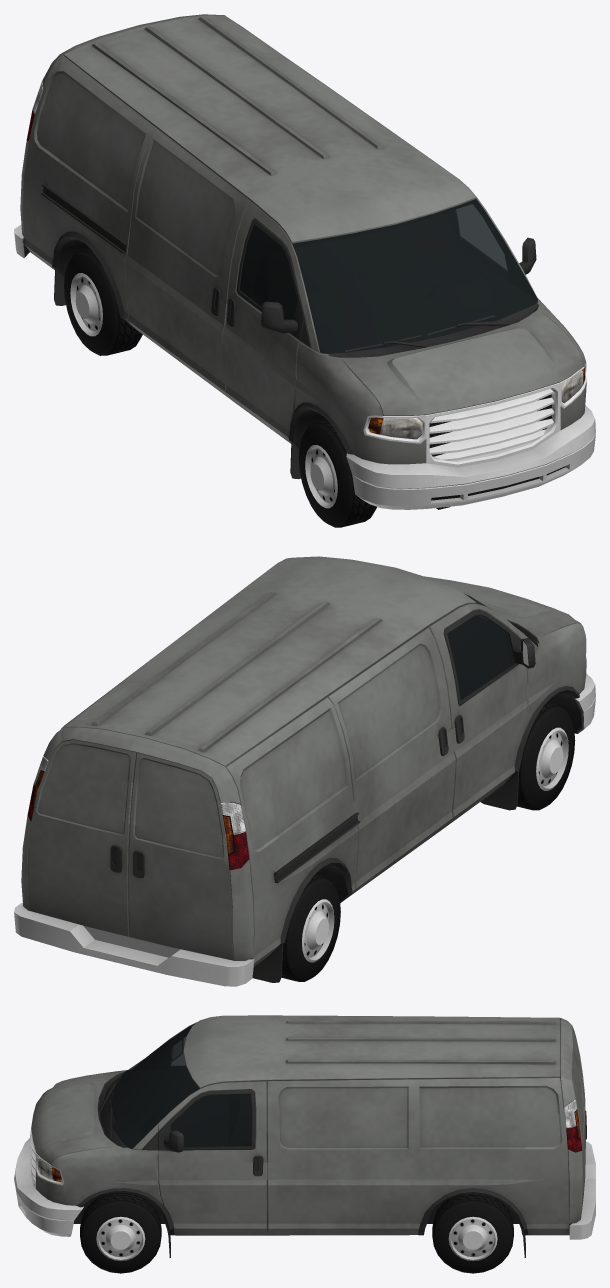
The picture shows the model from 3 angles, top to bottom: view 1: azimuth 30°, elevation 25°; view 2: azimuth 150°, elevation 25°; view 3: azimuth 270°, elevation 25°; orthographic projection. The views are drawn at different scales.
Parts seen in each view (by area): view 1: postvan_postvan_0, postvan_postvan_0.004, postvan_postvan_0.001; view 2: postvan_postvan_0, postvan_postvan_0.004, postvan_postvan_0.001; view 3: postvan_postvan_0, postvan_postvan_0.003, postvan_postvan_0.002.
Boxes of the visible parts, <box> form: postvan_postvan_0: <box>14,14,595,509</box>; postvan_postvan_0.004: <box>298,419,376,527</box>; postvan_postvan_0.001: <box>64,248,142,355</box>; postvan_postvan_0: <box>14,556,595,986</box>; postvan_postvan_0.004: <box>517,702,575,810</box>; postvan_postvan_0.001: <box>281,874,340,981</box>; postvan_postvan_0: <box>14,1015,595,1259</box>; postvan_postvan_0.003: <box>80,1192,161,1273</box>; postvan_postvan_0.002: <box>432,1193,513,1273</box>.
Bounding box in the file's own units: 2.08 × 1.88 × 5.09.
3 materials, 2 textured.
